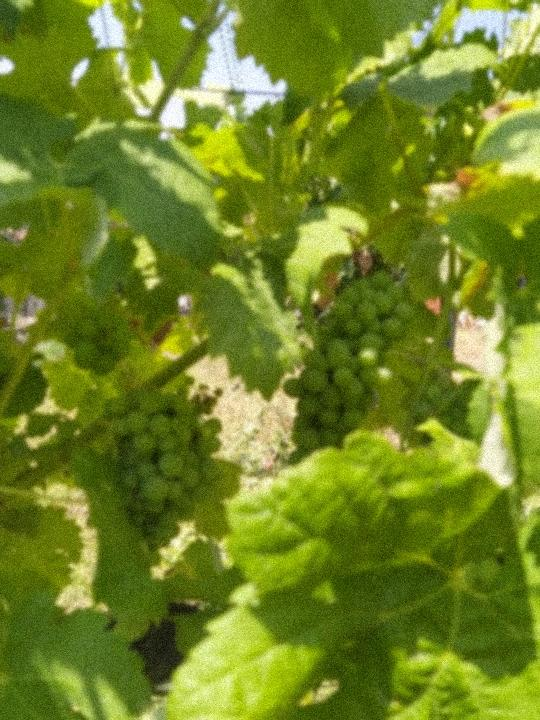grape: (279, 268, 418, 468), (100, 383, 225, 548)
